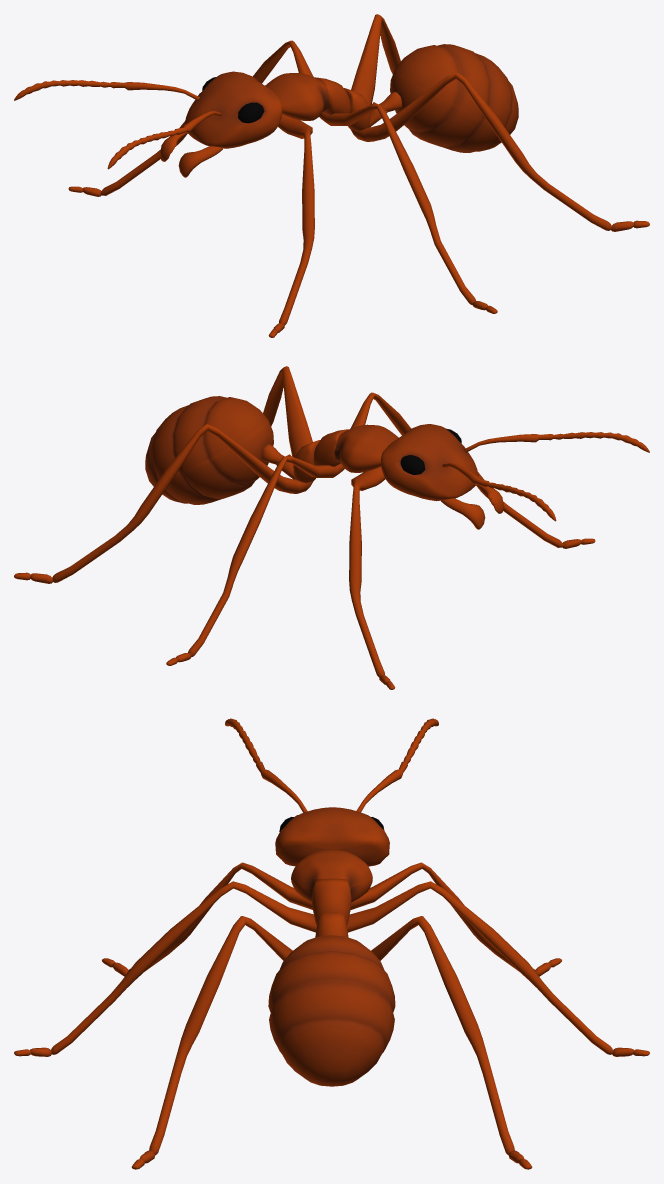
File: ant.glb
The picture shows the model from 3 angles, top to bottom: view 1: azimuth 30°, elevation 25°; view 2: azimuth 150°, elevation 25°; view 3: azimuth 270°, elevation 25°; orthographic projection. The views are drawn at different scales.
Parts seen in each view (by area): view 1: Cube, Cube.002, Retopo_defaultMaterial.001, Cube.003, Cube.001, Retopo_defaultMaterial.010, defaultMaterial.011, Retopo_defaultMaterial.013, Retopo_defaultMaterial.007, Retopo_defaultMaterial.005, defaultMaterial.015; view 2: Cube, Cube.002, Retopo_defaultMaterial.001, Cube.003, Cube.001, Retopo_defaultMaterial.010, defaultMaterial.011, Retopo_defaultMaterial.013, Retopo_defaultMaterial.007, Retopo_defaultMaterial.005; view 3: Cube, Cube.002, Cube.003, Retopo_defaultMaterial.001, Cube.001, Retopo_defaultMaterial.010, defaultMaterial.011, Retopo_defaultMaterial.007, Retopo_defaultMaterial.005.
Part boxes in pixels (x1=…): Cube: x1=390, y1=44, x2=518, y2=152; Cube.002: x1=350, y1=14, x2=649, y2=231; Retopo_defaultMaterial.001: x1=184, y1=71, x2=282, y2=148; Cube.003: x1=253, y1=40, x2=497, y2=313; Cube.001: x1=68, y1=114, x2=314, y2=337; Retopo_defaultMaterial.010: x1=265, y1=73, x2=328, y2=120; defaultMaterial.011: x1=14, y1=80, x2=221, y2=169; Retopo_defaultMaterial.013: x1=160, y1=132, x2=223, y2=177; Retopo_defaultMaterial.007: x1=315, y1=77, x2=350, y2=114; Retopo_defaultMaterial.005: x1=344, y1=88, x2=370, y2=131; defaultMaterial.015: x1=202, y1=77, x2=264, y2=123; Cube: x1=145, y1=396, x2=273, y2=504; Cube.002: x1=14, y1=366, x2=313, y2=583; Retopo_defaultMaterial.001: x1=381, y1=424, x2=478, y2=501; Cube.003: x1=166, y1=392, x2=410, y2=665; Cube.001: x1=349, y1=466, x2=595, y2=689; Retopo_defaultMaterial.010: x1=334, y1=424, x2=398, y2=472; defaultMaterial.011: x1=442, y1=432, x2=649, y2=521; Retopo_defaultMaterial.013: x1=440, y1=484, x2=503, y2=529; Retopo_defaultMaterial.007: x1=313, y1=429, x2=348, y2=466; Retopo_defaultMaterial.005: x1=293, y1=440, x2=320, y2=483; Cube: x1=268, y1=935, x2=395, y2=1086; Cube.002: x1=131, y1=916, x2=532, y2=1169; Cube.003: x1=14, y1=881, x2=649, y2=1056; Retopo_defaultMaterial.001: x1=275, y1=807, x2=389, y2=866; Cube.001: x1=102, y1=862, x2=561, y2=976; Retopo_defaultMaterial.010: x1=291, y1=849, x2=372, y2=902; defaultMaterial.011: x1=225, y1=718, x2=438, y2=812; Retopo_defaultMaterial.007: x1=312, y1=878, x2=351, y2=926; Retopo_defaultMaterial.005: x1=315, y1=912, x2=348, y2=937.
Size of the model in its own units: 21.77 by 7.29 by 21.15.
Materials: 2 (1 with a texture image).
